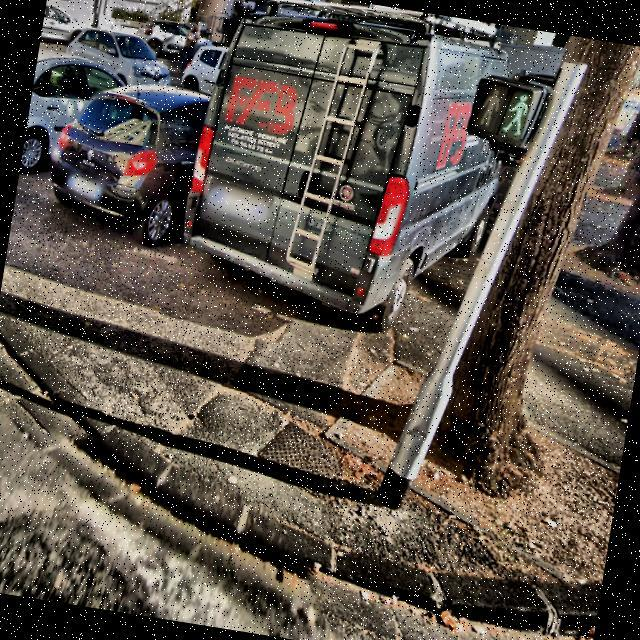green_light: (498, 86, 534, 140)
